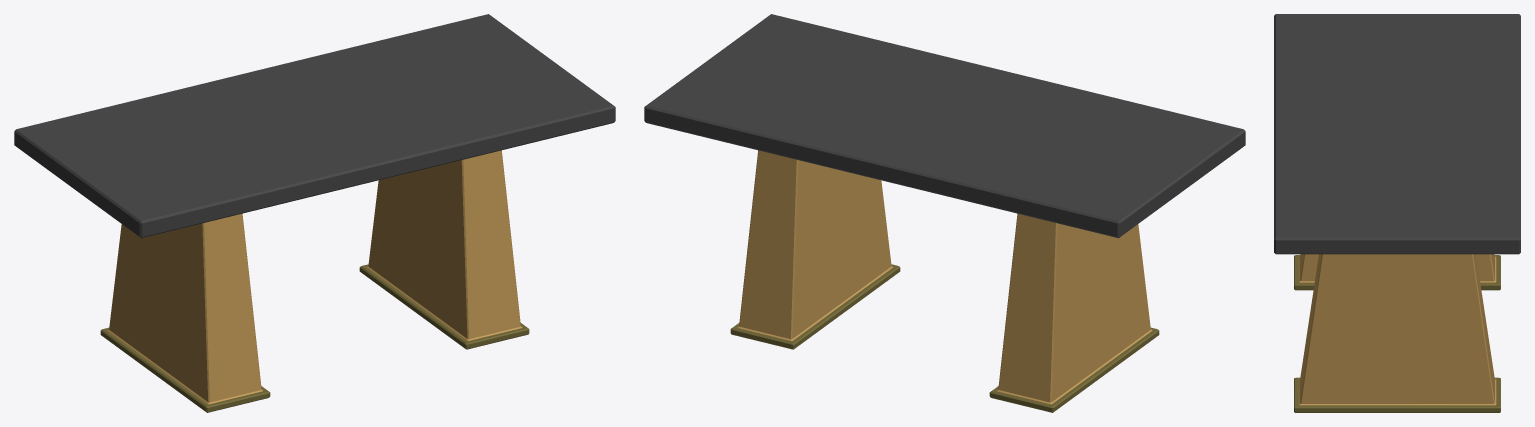
The model's file is table.fbx.
3 renders of one model, left to right at view 1: azimuth 30°, elevation 25°; view 2: azimuth 150°, elevation 25°; view 3: azimuth 270°, elevation 25°, orthographic. The views are drawn at different scales.
Visible parts, largest first — view 1: group2_pCube1, pCube1, pCube3, pCube2; view 2: group2_pCube1, pCube1, pCube3, pCube2; view 3: group2_pCube1, pCube3, pCube1, pCube2.
Part boxes in pixels (box(x1,y1,x2,y2)): group2_pCube1: box(14, 14, 615, 412); pCube1: box(15, 14, 614, 238); pCube3: box(360, 150, 529, 349); pCube2: box(100, 214, 270, 412); group2_pCube1: box(644, 14, 1245, 411); pCube1: box(644, 14, 1240, 238); pCube3: box(730, 150, 900, 349); pCube2: box(990, 213, 1159, 412); group2_pCube1: box(1274, 14, 1520, 412); pCube3: box(1294, 254, 1500, 412); pCube1: box(1274, 14, 1520, 254); pCube2: box(1294, 254, 1500, 290).
Bounding box in the file's own units: 6.67 × 2.92 × 3.09.
